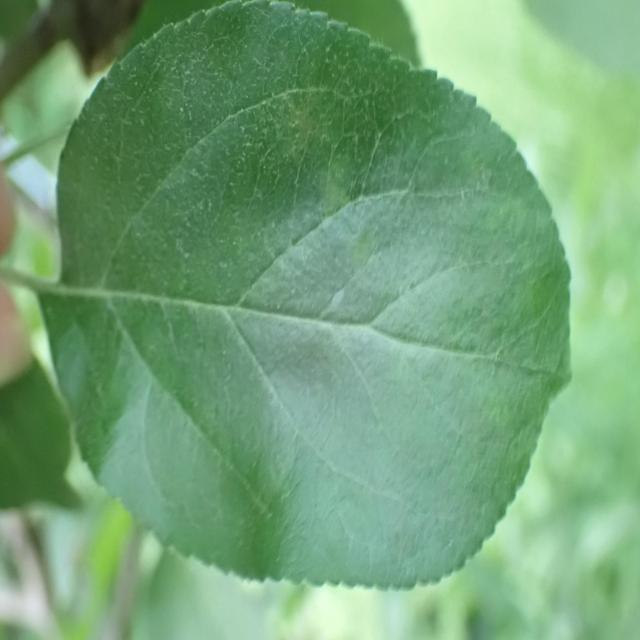scab: (81, 75, 536, 498)
